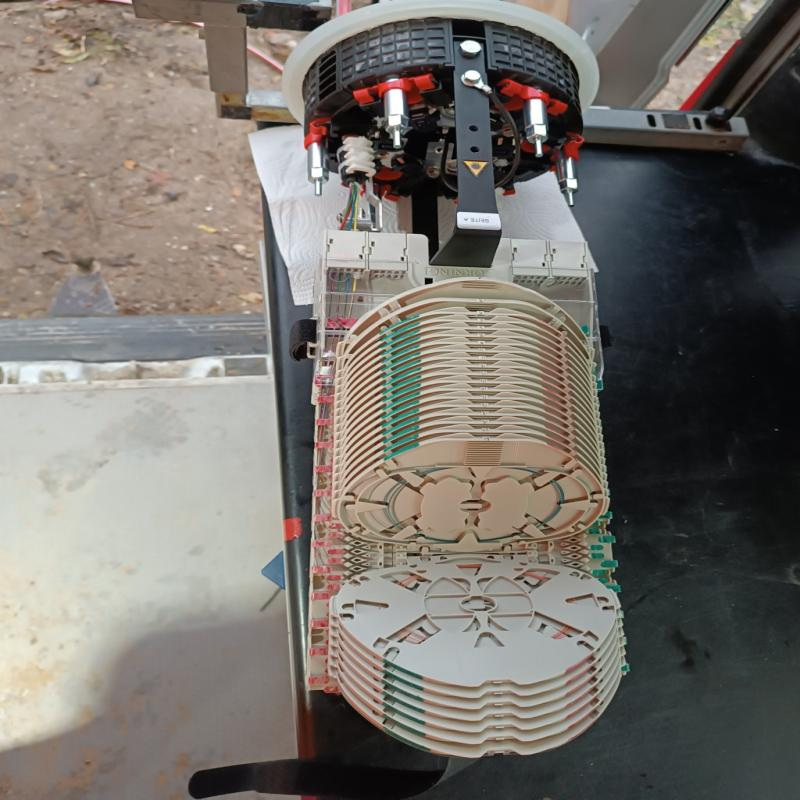NT-Muffen: (287, 3, 636, 760)
